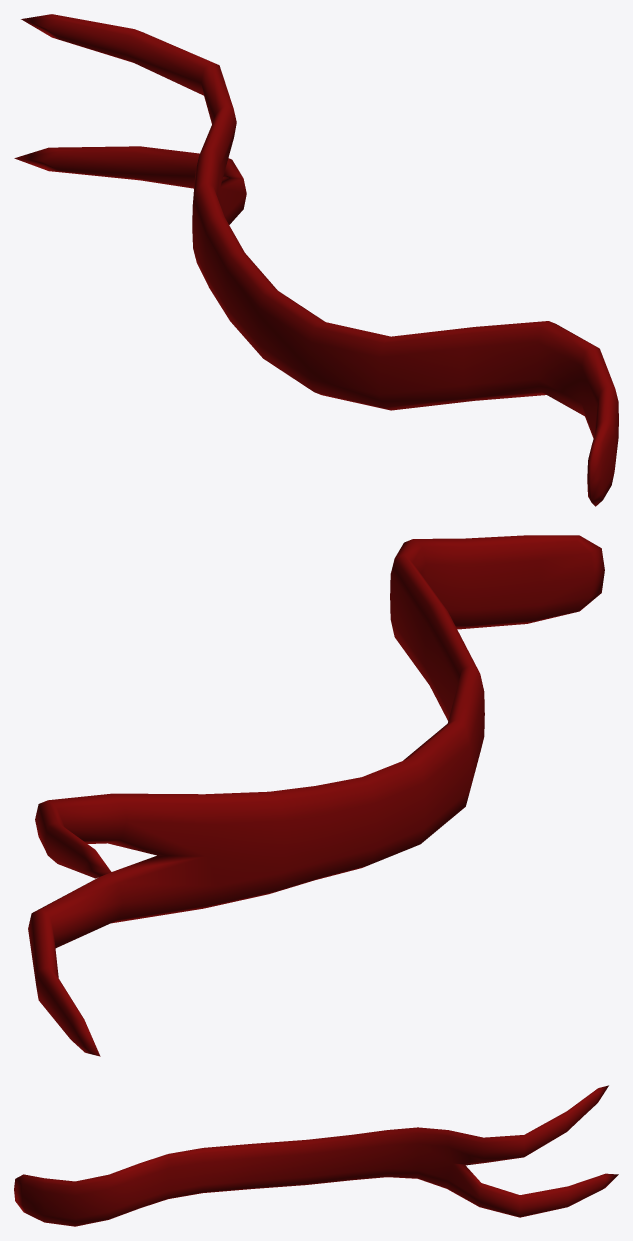
File: SnakeTongue.fbx
3 renders of one model, top to bottom at view 1: azimuth 30°, elevation 25°; view 2: azimuth 150°, elevation 25°; view 3: azimuth 270°, elevation 25°, orthographic. The views are drawn at different scales.
Parts seen in each view (by area): view 1: Cube.001; view 2: Cube.001; view 3: Cube.001.
Boxes of the visible parts, x1,y1,x2,y2 form: Cube.001: [14, 14, 618, 506]; Cube.001: [28, 535, 604, 1056]; Cube.001: [14, 1085, 618, 1226].
Bounding box in the file's own units: 34.91 × 31.29 × 164.
